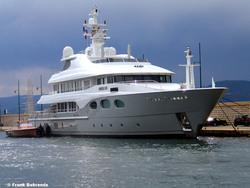yacht: (26, 3, 230, 138)
